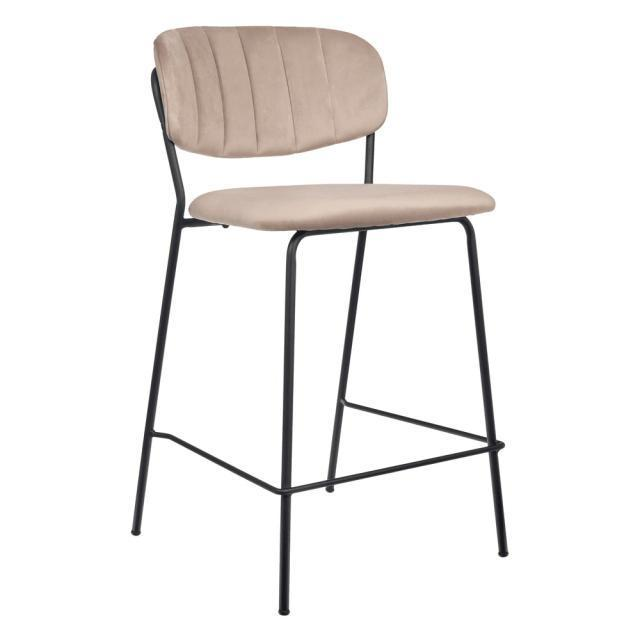chair: (123, 20, 512, 620), (130, 26, 496, 236)
